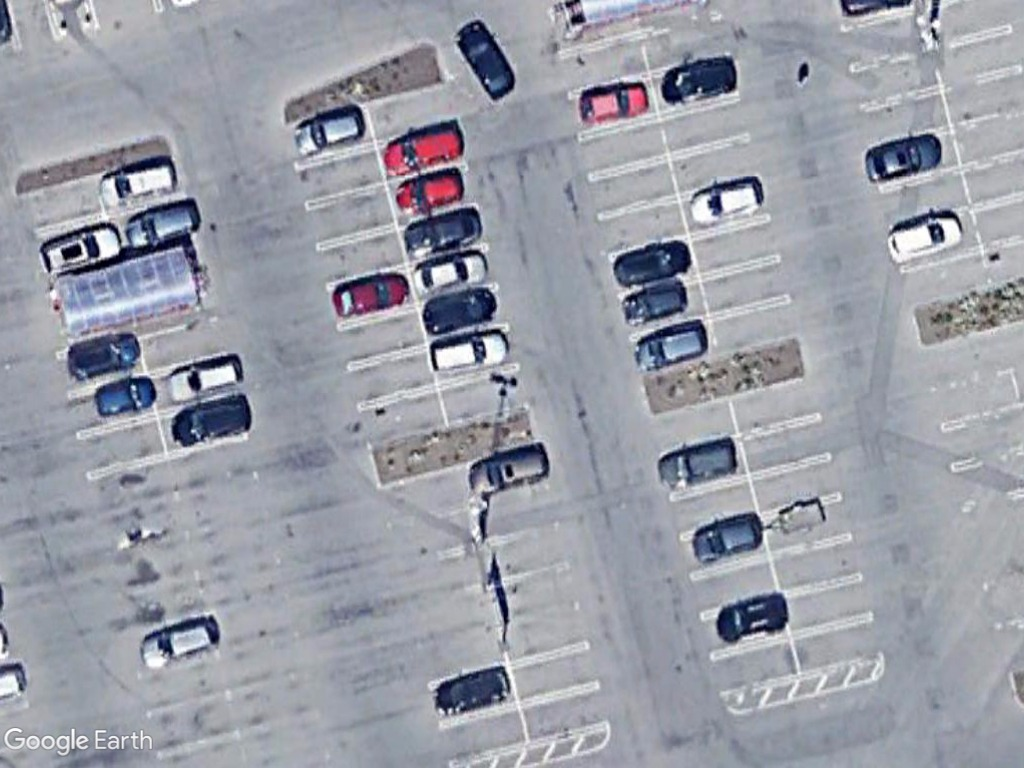car: (451, 20, 520, 104), (167, 391, 258, 452), (427, 660, 513, 723), (381, 117, 467, 179), (859, 128, 949, 187), (464, 441, 550, 502), (136, 614, 223, 674), (425, 320, 513, 378), (883, 207, 969, 266), (656, 434, 740, 494), (120, 197, 205, 256), (684, 173, 768, 232), (164, 349, 248, 408), (38, 222, 123, 280), (401, 204, 483, 262), (688, 508, 767, 568), (632, 318, 711, 378), (608, 236, 691, 293), (97, 153, 179, 210), (711, 590, 790, 649), (658, 53, 741, 108), (329, 269, 413, 322), (288, 106, 370, 160), (421, 283, 500, 339), (408, 246, 489, 300), (392, 163, 466, 220), (61, 332, 141, 384), (575, 75, 652, 128), (619, 275, 689, 332), (90, 373, 157, 421)
